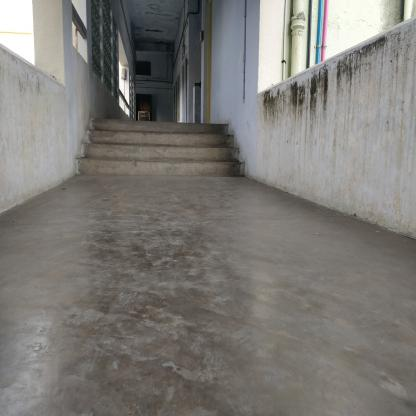stairs: (87, 126, 229, 174)
